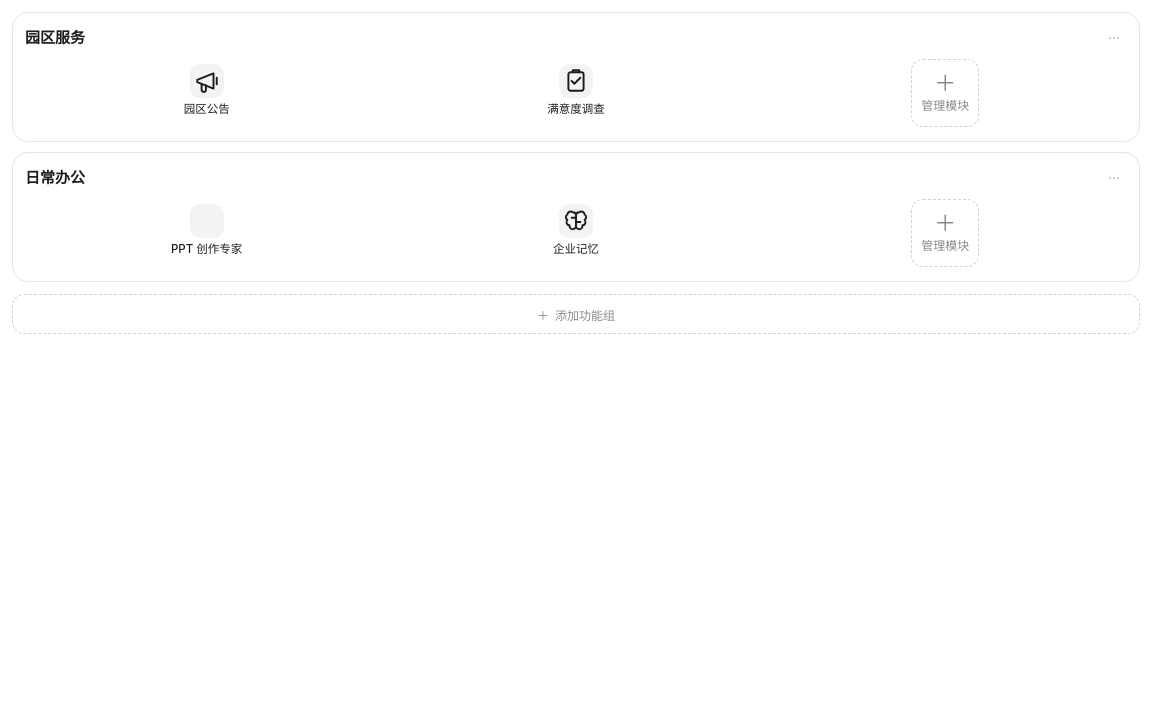
Scenario: ModuleWorkspace › clears transient editing and undo state when the storage scope changes
Click the button named "功能组菜单：园区服务".
click(1114, 38)  # box left=1101, top=25, right=1127, bottom=51
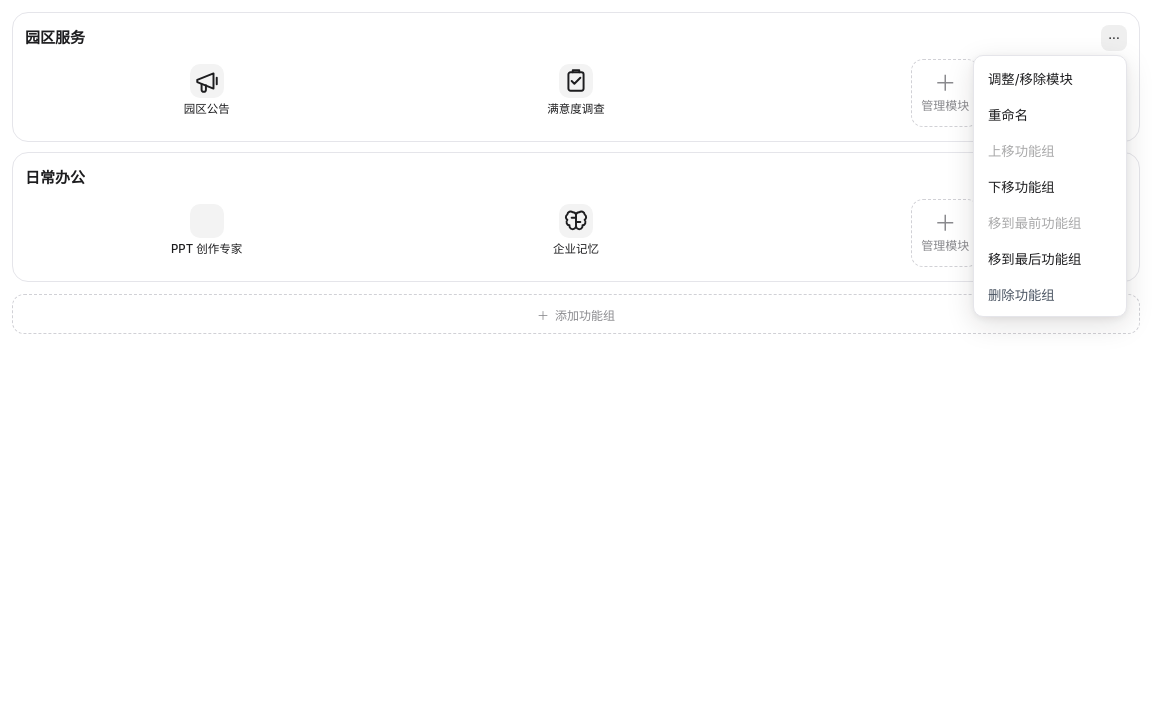
Click the menu item "调整/移除模块".
click(1050, 78)  # box left=979, top=61, right=1121, bottom=95
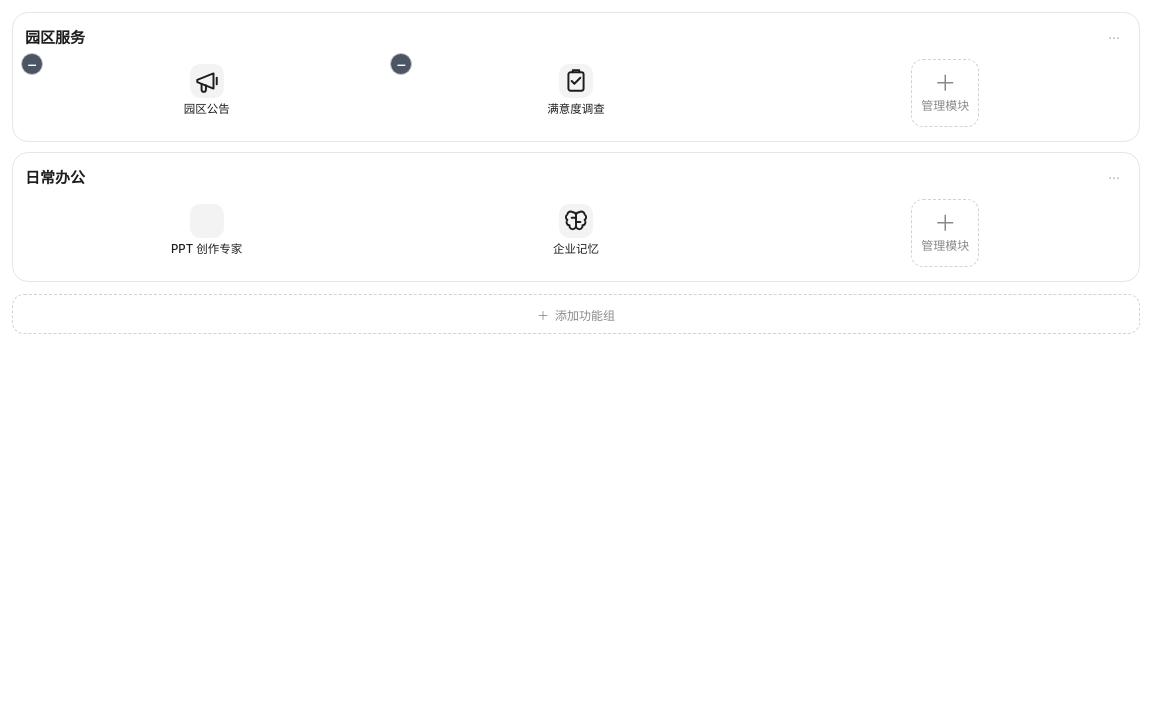
Click the button named "移除 园区公告".
click(32, 64)  # box left=21, top=53, right=43, bottom=75
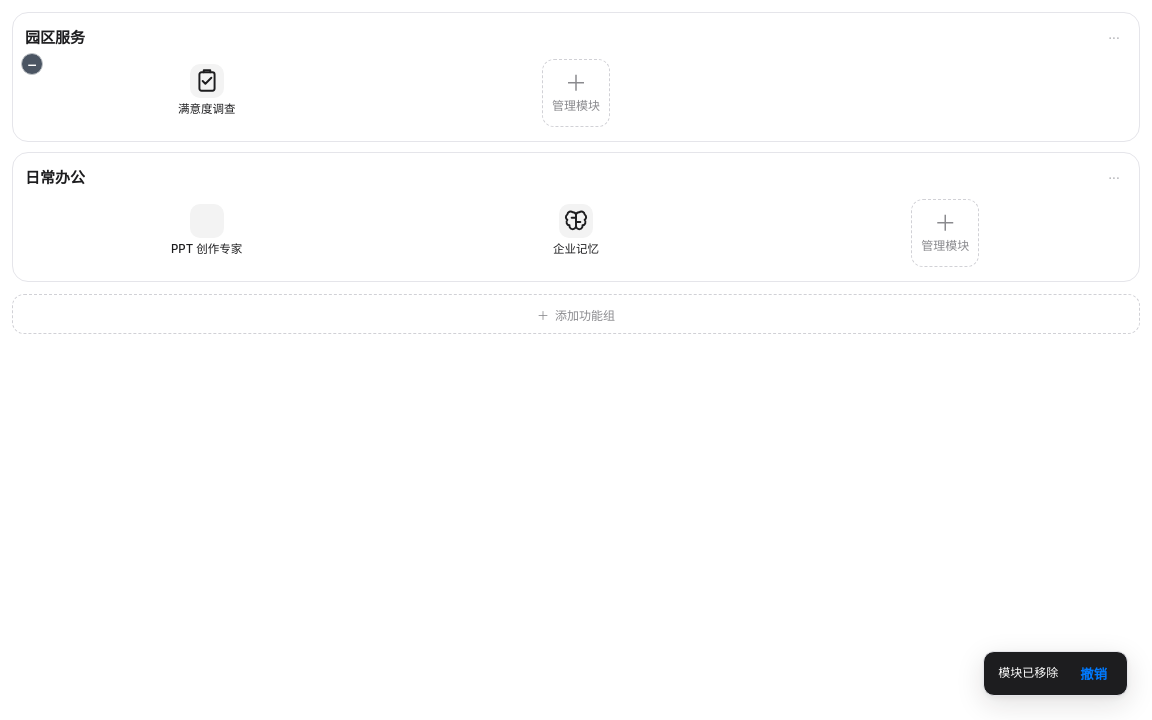
Expected: the button with aria-label "撤销移除" is shown, left=1074, top=663, right=1113, bottom=684
